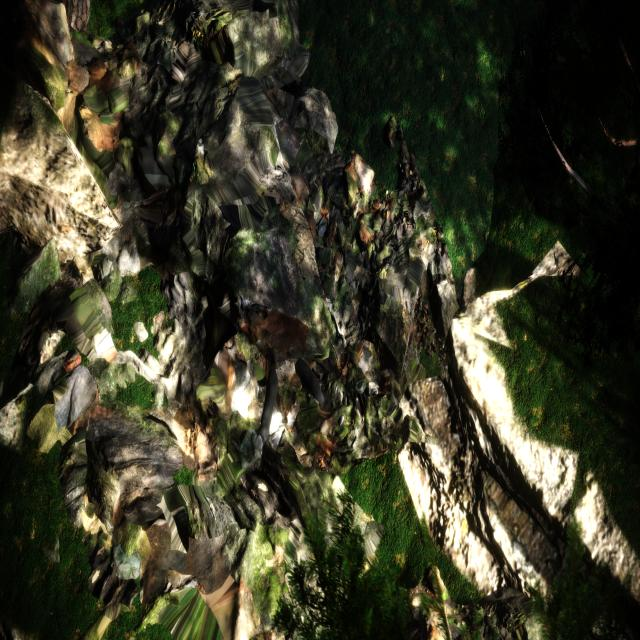Human: (251, 344, 344, 456)
